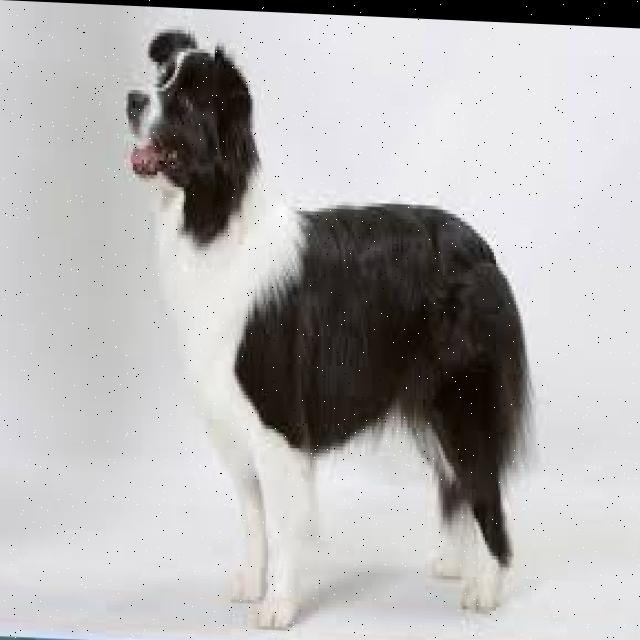BORDER_COLLIE: (115, 16, 550, 631)
